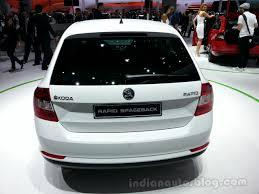skoda: (121, 85, 137, 102)
